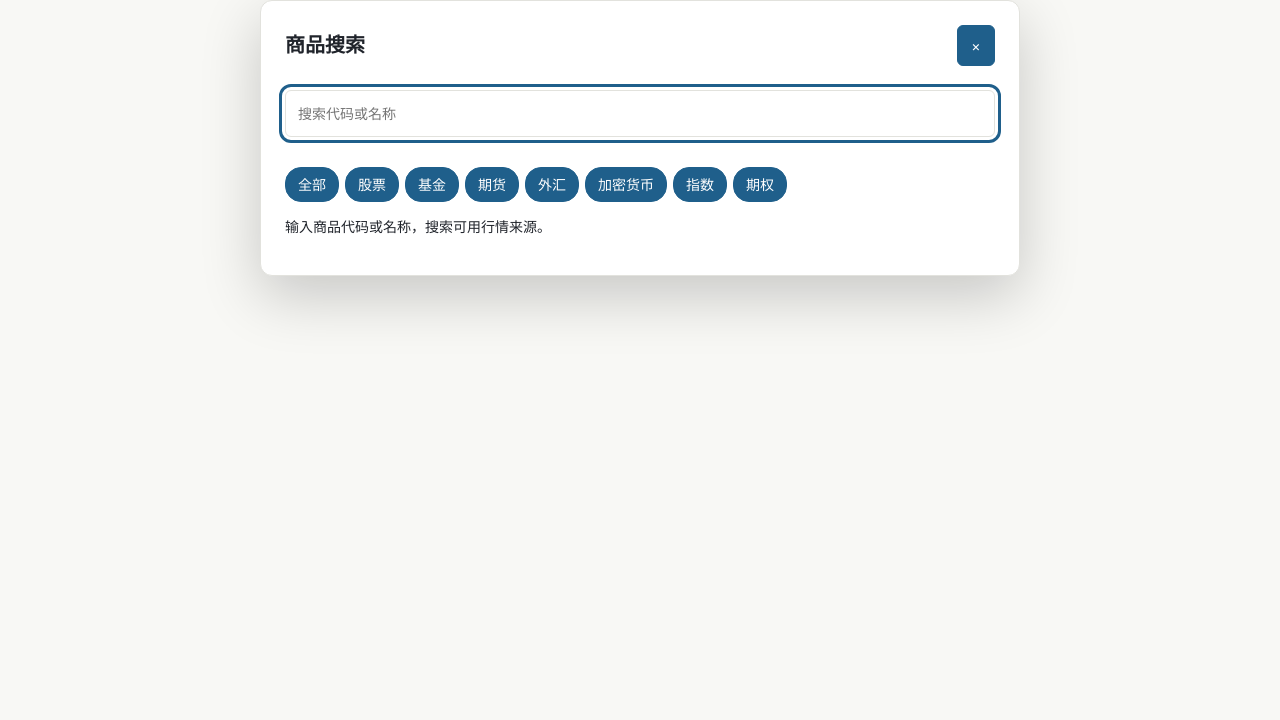
Scenario: distinguishes total source failure from an empty successful search (TIMEOUT)
In the search field: (640, 113) x1=285 y1=90 x2=995 y2=137, type "BTC"
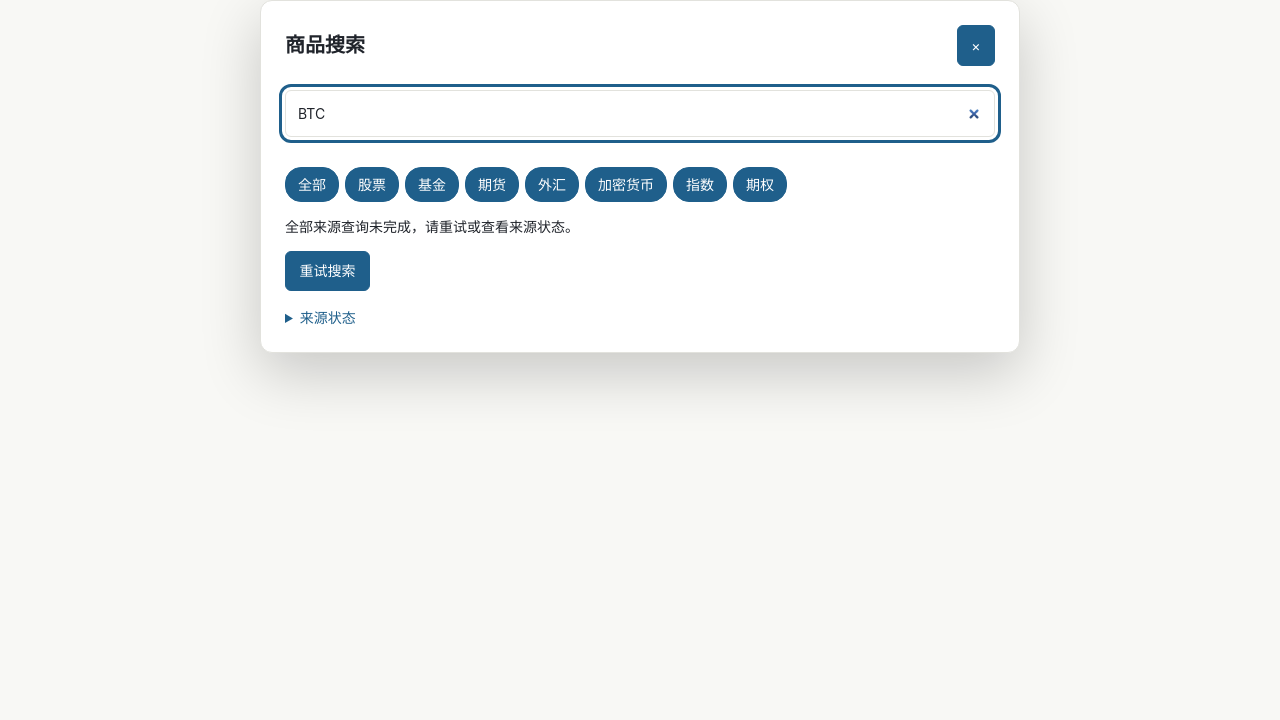
expect the message shows "全部来源查询未完成": met, box x1=285 y1=218 x2=579 y2=235
